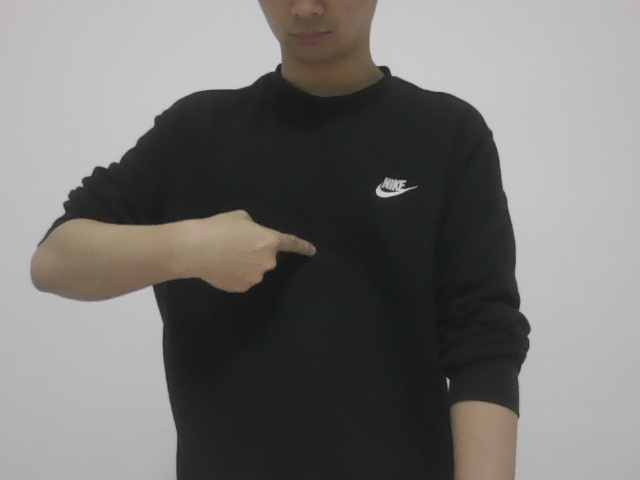I/me: (181, 201, 337, 301)
